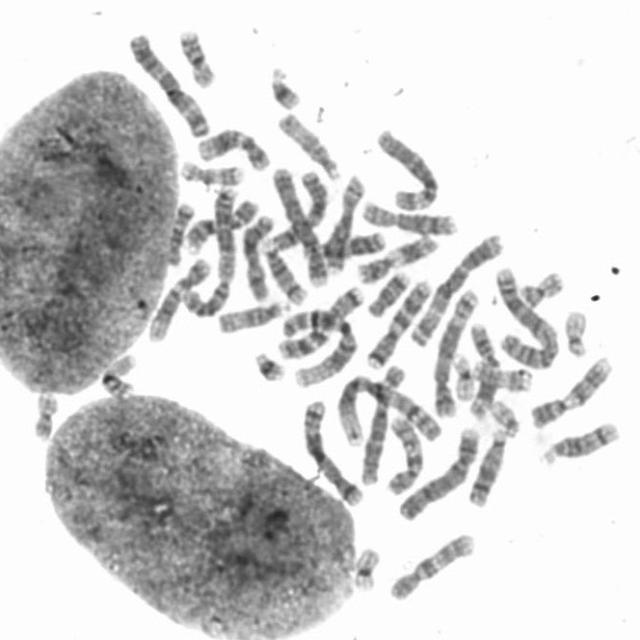A1: (331, 369, 444, 447), (274, 301, 361, 388)
A2: (176, 178, 244, 318), (488, 258, 561, 370)
A3: (404, 224, 507, 348), (121, 24, 213, 139)
B4: (393, 419, 484, 522), (266, 160, 332, 289)
B5: (296, 392, 366, 507), (427, 280, 482, 419)
C10: (383, 525, 478, 603), (380, 407, 427, 496)
C11: (351, 227, 440, 285), (463, 316, 502, 420)
C12: (142, 249, 214, 343), (191, 119, 272, 172)
C6: (354, 357, 408, 487), (370, 120, 443, 212)
C7: (274, 278, 366, 361), (362, 272, 436, 370)
C8: (319, 167, 369, 274), (356, 193, 460, 236)
C9: (524, 348, 616, 430), (178, 191, 262, 254)
D13: (462, 421, 510, 508), (312, 223, 388, 266)
D14: (534, 413, 623, 467), (256, 236, 310, 306)
D15: (271, 103, 345, 180), (211, 292, 291, 334)
E16: (172, 21, 218, 89), (94, 346, 139, 399)
E17: (465, 355, 535, 393), (173, 152, 247, 187)
E18: (362, 263, 414, 318), (161, 195, 197, 267)
F19: (347, 539, 383, 593), (446, 346, 478, 402)
F20: (514, 263, 566, 308), (25, 384, 60, 441)
G21: (262, 58, 304, 111), (249, 344, 288, 383)
G22: (558, 301, 592, 359), (484, 392, 522, 439)
X: (257, 161, 330, 253), (236, 207, 277, 302)
